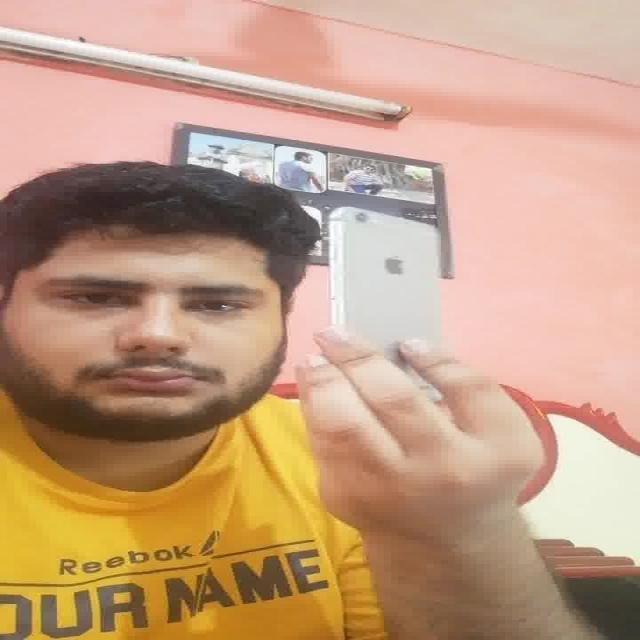Phone: (328, 204, 444, 372)
